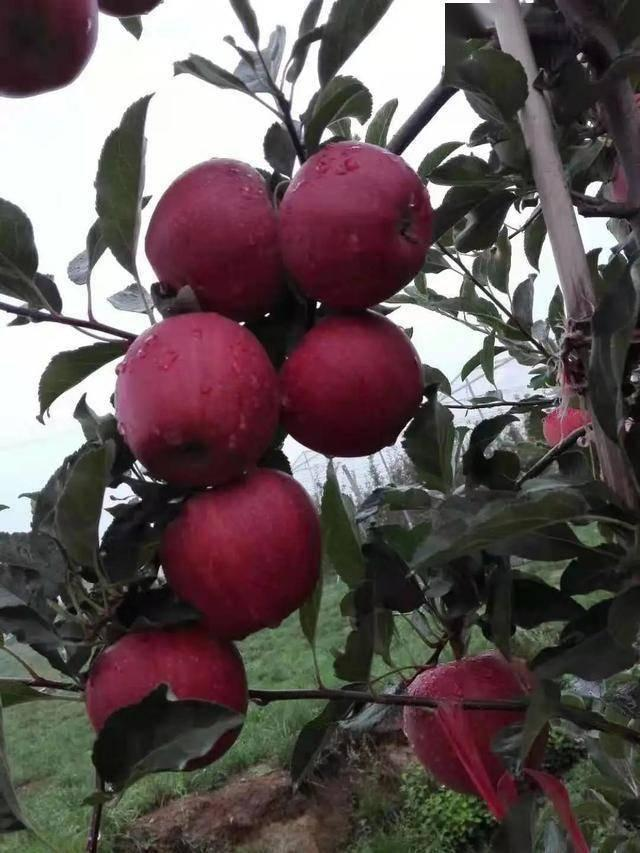apple: (117, 308, 284, 487), (163, 466, 326, 632), (282, 141, 436, 312), (79, 622, 248, 773), (145, 152, 295, 321), (399, 651, 548, 794), (278, 320, 425, 459)
